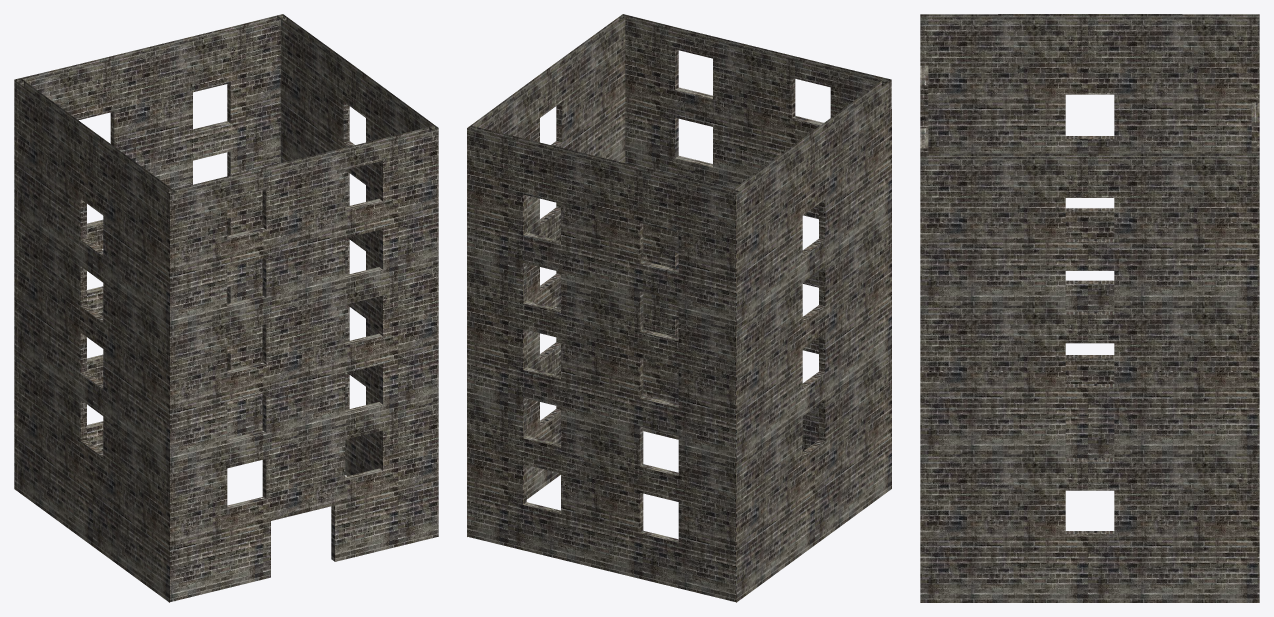
The picture shows the model from 3 angles, left to right: view 1: azimuth 30°, elevation 25°; view 2: azimuth 150°, elevation 25°; view 3: azimuth 270°, elevation 25°; orthographic projection. The views are drawn at different scales.
Parts seen in each view (by area): view 1: ta04; view 2: ta04; view 3: ta04.
Boxes of the visible parts, x1,y1,x2,y2 form: ta04: [14, 14, 438, 602]; ta04: [467, 14, 891, 602]; ta04: [920, 14, 1259, 602].
Bounding box in the file's own units: 419 × 610 × 420.
